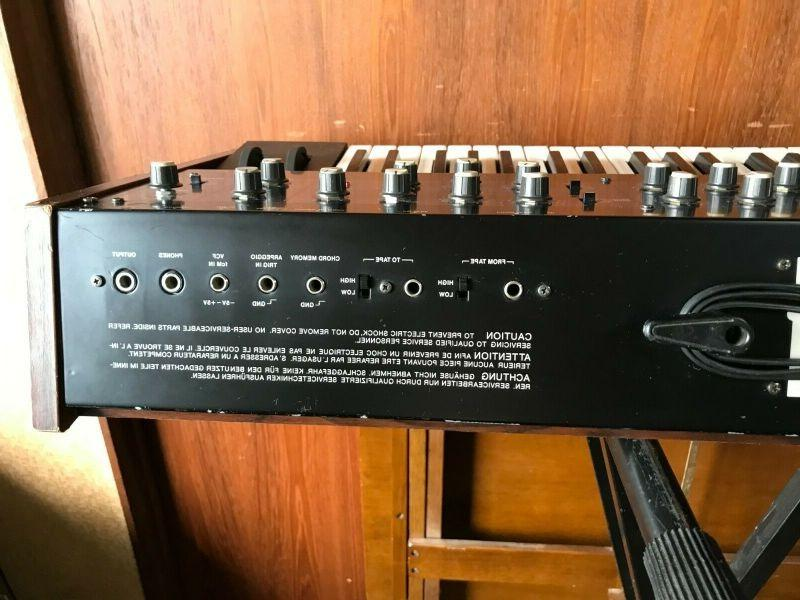synthesizer: (38, 136, 782, 446)
